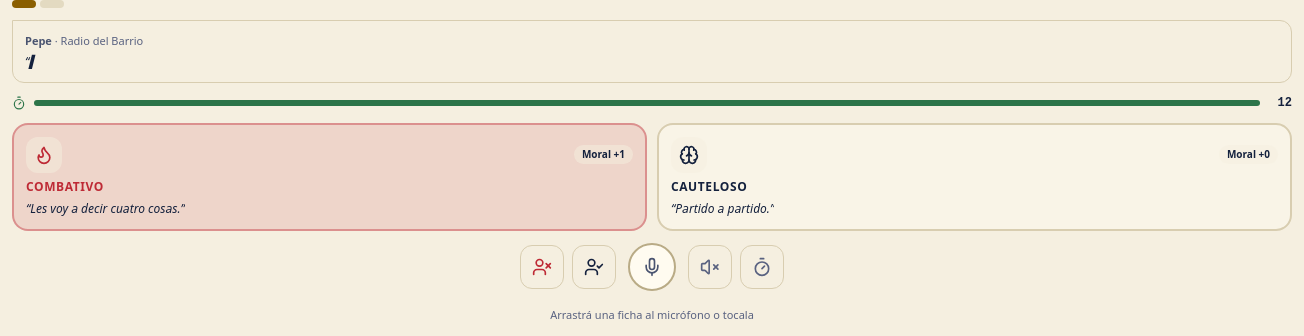
Test: sala de prensa relámpago › fichas arrastrables hasta el micrófono › el botón de sonido se enciende y apaga y queda guardado
The width and height of the screenshot is (1304, 336).
Later steps or results of the test are not shown.
Step 1. Click the button named "Sonido" → (710, 267), box [688,245,732,289]
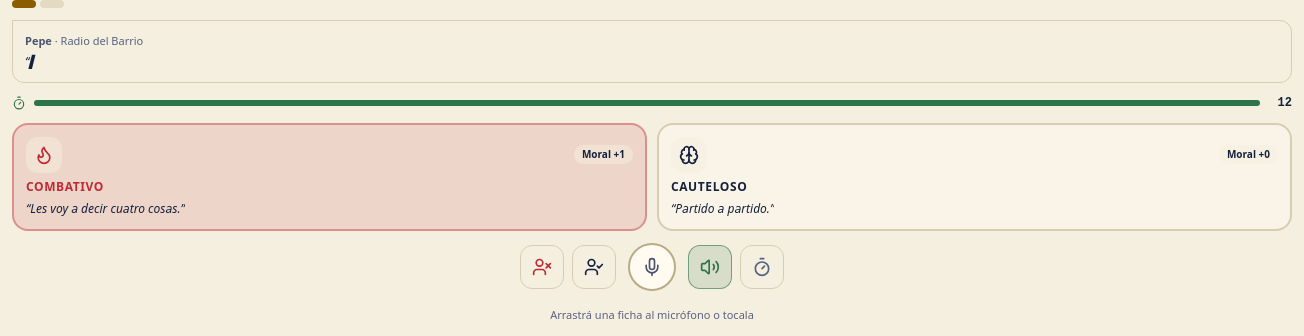
Expected: the button named "Sonido" is pressed, [688,245,732,289]
